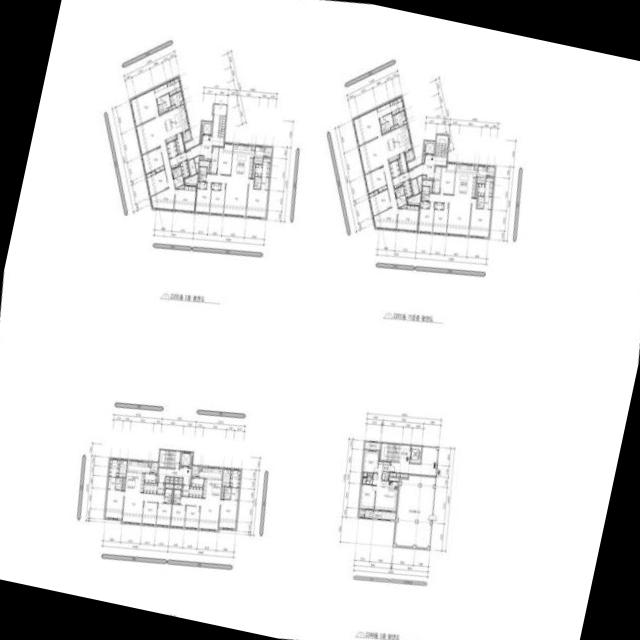background: (0, 0, 640, 640)
space_balconi: (364, 509, 395, 519), (364, 441, 380, 449), (181, 129, 191, 141), (404, 148, 413, 161), (486, 165, 494, 176), (263, 146, 271, 156)
space_bedroom: (352, 107, 381, 145), (129, 88, 158, 125), (468, 197, 490, 237), (246, 178, 268, 217), (396, 204, 419, 231), (173, 184, 196, 211), (141, 146, 164, 173), (145, 169, 168, 196), (368, 188, 390, 215), (364, 166, 386, 193), (218, 498, 237, 528), (104, 488, 123, 518), (216, 142, 232, 174), (439, 162, 455, 193), (418, 201, 434, 232), (209, 183, 225, 214), (432, 202, 448, 233), (195, 182, 211, 212), (359, 484, 375, 509), (141, 501, 157, 524), (155, 502, 171, 525), (362, 449, 378, 472), (170, 503, 185, 527), (184, 505, 199, 528), (434, 202, 443, 209), (420, 200, 429, 207), (197, 181, 206, 188), (211, 182, 220, 189)
space_dressroom: (166, 76, 181, 95), (389, 95, 403, 115), (108, 458, 119, 476), (229, 468, 240, 486), (261, 157, 270, 176), (484, 177, 492, 195), (254, 163, 261, 175), (477, 183, 484, 195)
space_elevator: (409, 445, 421, 462), (180, 451, 192, 466), (200, 121, 212, 134), (423, 140, 434, 154)
space_elevator_hall: (408, 123, 449, 179), (186, 103, 226, 159), (390, 444, 437, 475), (157, 467, 191, 484)
space_front: (392, 170, 409, 187), (169, 151, 186, 168), (431, 165, 441, 192), (208, 146, 218, 173), (166, 139, 177, 158), (179, 159, 189, 178), (402, 178, 412, 197), (389, 159, 399, 177), (188, 485, 202, 497), (143, 482, 157, 493), (378, 461, 389, 470), (156, 482, 164, 493), (181, 485, 188, 495)
space_kitchen: (159, 103, 189, 142), (382, 123, 411, 162), (124, 459, 150, 492), (230, 143, 254, 177), (198, 466, 222, 499), (453, 163, 477, 196), (380, 480, 397, 497), (144, 473, 156, 482), (191, 477, 203, 486)
space_living_room: (135, 115, 174, 209), (358, 135, 397, 229), (205, 173, 248, 216), (428, 193, 471, 235), (121, 491, 163, 523), (180, 496, 219, 530), (372, 463, 396, 510)
space_other: (393, 474, 435, 548), (169, 90, 183, 106), (174, 132, 184, 154), (397, 152, 407, 173), (392, 110, 405, 126), (253, 145, 264, 163), (476, 165, 486, 182), (221, 468, 230, 485), (407, 192, 420, 203), (118, 459, 126, 476), (410, 177, 418, 194), (188, 158, 196, 175), (199, 159, 209, 172), (184, 173, 197, 183), (422, 179, 432, 191), (193, 155, 199, 172), (416, 174, 421, 192), (381, 471, 388, 479), (390, 123, 398, 129), (358, 509, 364, 516), (167, 104, 175, 109), (173, 484, 181, 488), (164, 476, 169, 482), (173, 477, 178, 483), (388, 477, 398, 480), (165, 483, 172, 487), (399, 203, 406, 207), (176, 184, 183, 188), (252, 163, 254, 177), (475, 183, 477, 197), (221, 486, 223, 498), (169, 476, 173, 482), (178, 477, 182, 483), (122, 477, 124, 489), (400, 473, 407, 476), (395, 472, 399, 476), (422, 174, 426, 178), (199, 135, 201, 143), (390, 472, 395, 475), (474, 164, 477, 169), (422, 155, 424, 162), (403, 119, 406, 123), (199, 155, 203, 158), (251, 145, 254, 149), (180, 100, 183, 104), (199, 466, 201, 470)
space_outdoor_room: (191, 465, 199, 476), (150, 461, 157, 472)
space_staircase: (158, 449, 180, 467), (380, 442, 400, 460), (217, 114, 225, 137), (440, 134, 448, 157)
space_toilet: (379, 112, 393, 133), (156, 93, 170, 113), (153, 82, 168, 97), (376, 101, 390, 117), (173, 174, 183, 187), (172, 488, 180, 503), (396, 194, 406, 206), (421, 185, 429, 200), (163, 488, 171, 502), (198, 166, 206, 180), (362, 472, 372, 483), (260, 176, 268, 189), (107, 476, 115, 488), (230, 487, 238, 499), (483, 196, 491, 208), (394, 186, 400, 197), (175, 165, 181, 176), (171, 167, 177, 178), (398, 185, 404, 195), (476, 195, 483, 201), (115, 477, 122, 483), (223, 492, 230, 498), (223, 486, 230, 492), (115, 483, 122, 489), (476, 201, 483, 207), (254, 176, 261, 182), (253, 182, 260, 188)
